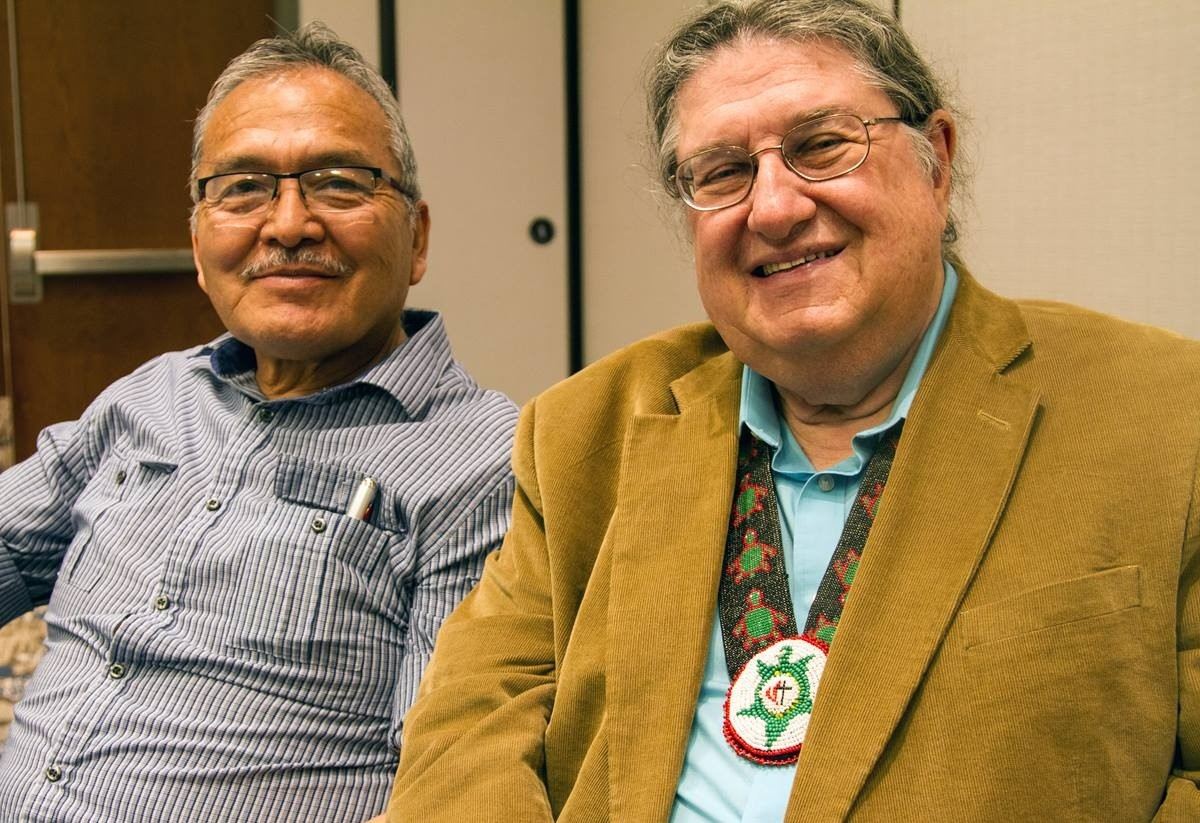face_no_mask: (649, 17, 952, 384), (193, 36, 410, 355)
